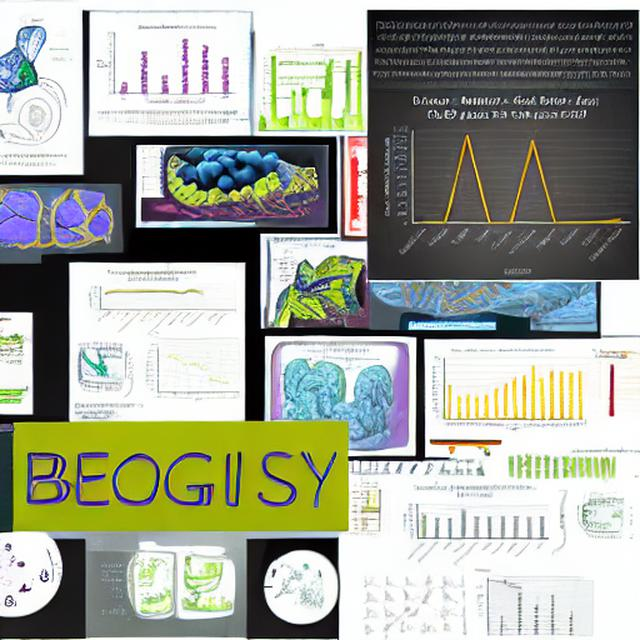Graph: (375, 89, 639, 280), (427, 345, 588, 436), (397, 483, 550, 574), (91, 22, 240, 108), (85, 268, 209, 338), (145, 347, 244, 404)
